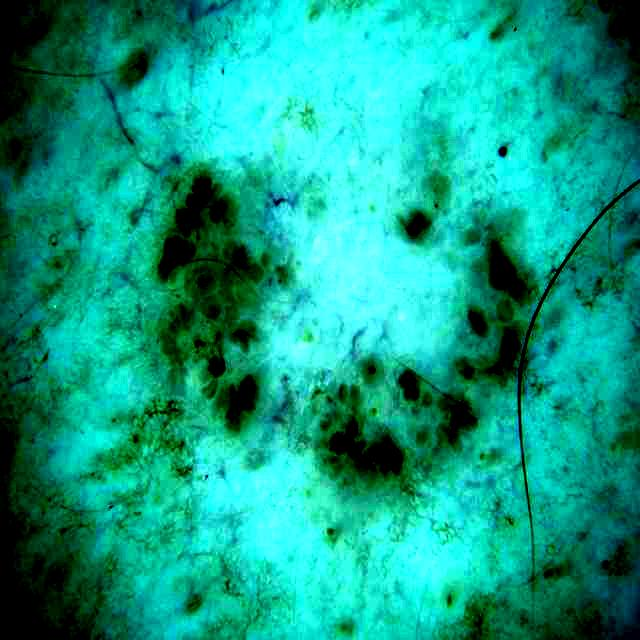BCC: (158, 142, 532, 489)
